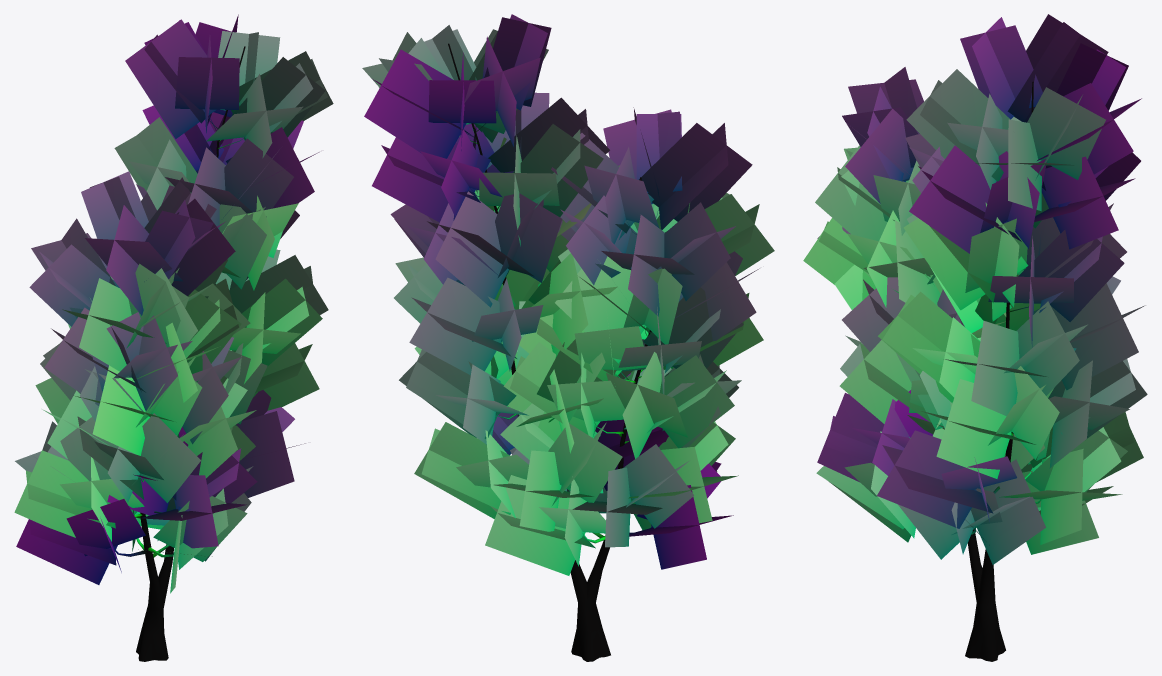
The model's file is Tree_5_10.fbx.
3 views of the same model, side by side, from view 1: azimuth 30°, elevation 25°; view 2: azimuth 150°, elevation 25°; view 3: azimuth 270°, elevation 25° (orthographic). The views are drawn at different scales.
Parts seen in each view (by area): view 1: _10; view 2: _10; view 3: _10.
Part boxes in pixels (x1=…): _10: x1=14, y1=14, x2=333, y2=661; _10: x1=362, y1=14, x2=774, y2=661; _10: x1=803, y1=14, x2=1147, y2=661.
Size of the model in its own units: 1405 by 2469 by 1156.
